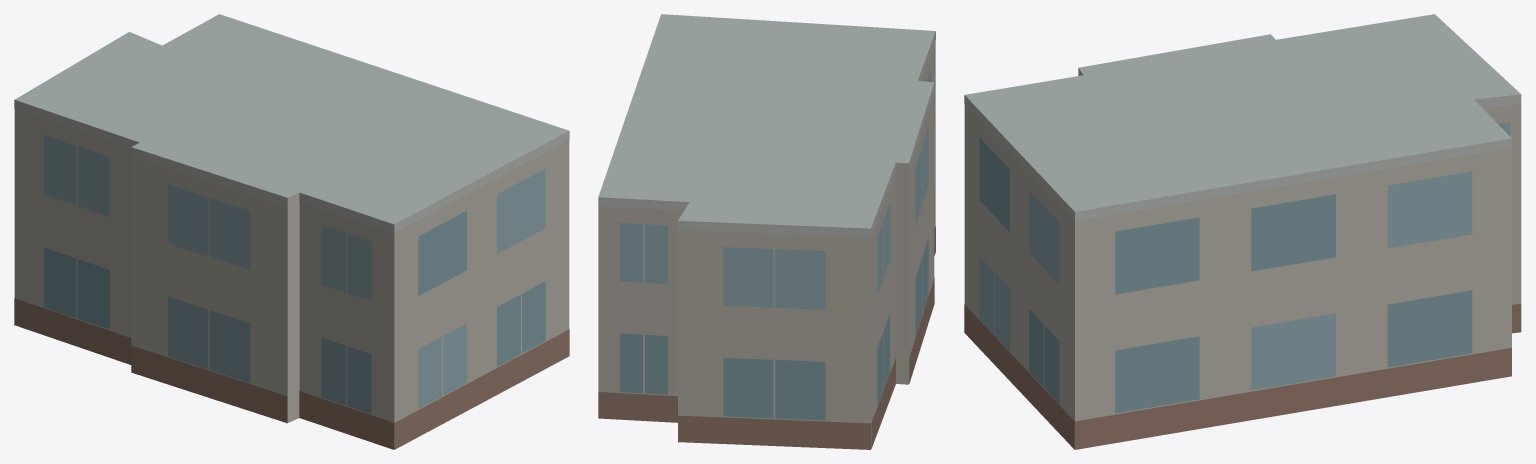
The model's file is survey-upis-32732457.glb.
The picture shows the model from 3 angles, left to right: view 1: azimuth 30°, elevation 25°; view 2: azimuth 150°, elevation 25°; view 3: azimuth 270°, elevation 25°; orthographic projection. The views are drawn at different scales.
Visible parts, largest first — view 1: survey-upis-32732457.tmp; view 2: survey-upis-32732457.tmp; view 3: survey-upis-32732457.tmp.
Part boxes in pixels (x1=…): survey-upis-32732457.tmp: x1=14, y1=14, x2=569, y2=449; survey-upis-32732457.tmp: x1=598, y1=14, x2=935, y2=449; survey-upis-32732457.tmp: x1=964, y1=14, x2=1521, y2=449.
Bounding box in the file's own units: 10.89 × 6.1 × 12.95.
